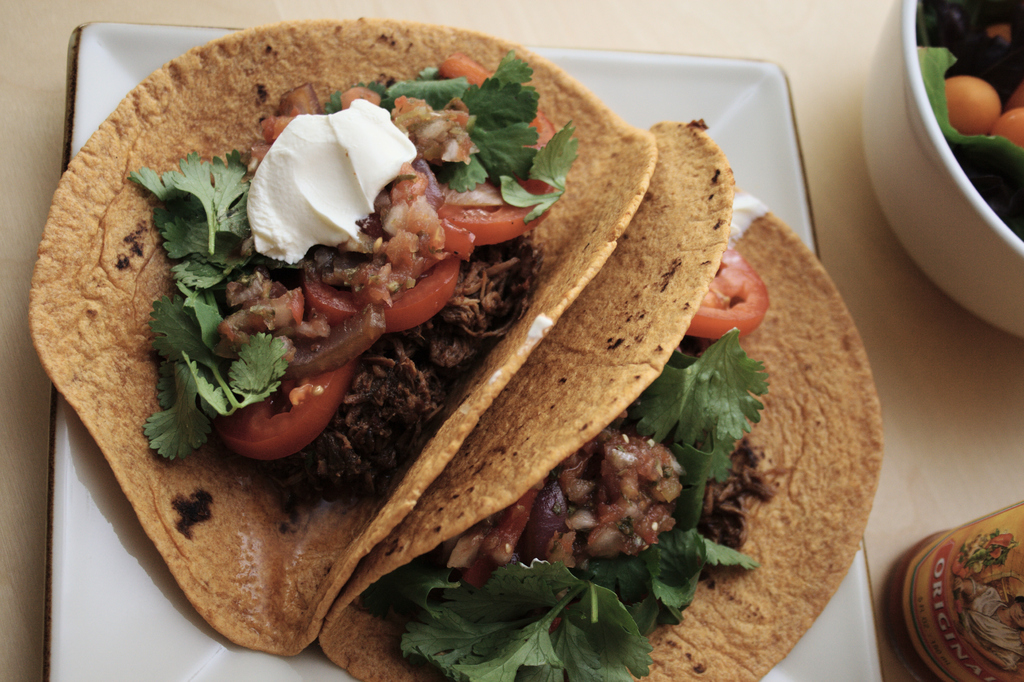taco: (321, 108, 880, 681)
